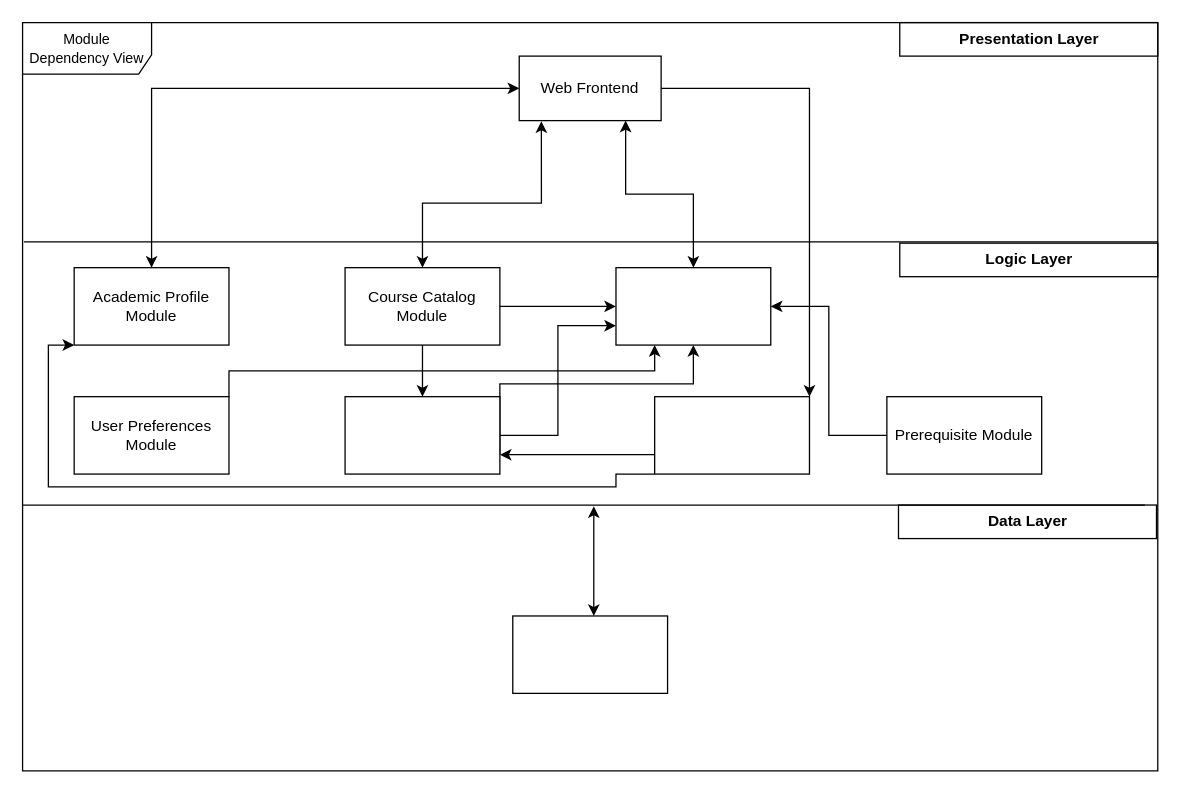
Image size: 1180x793. Some labels were removed from this diagram. The shapes that lost their labels are listed below. From the top down, each one's box as (x1, y1, x2, y2) in pixels, then its label:
(615, 266, 771, 345): Course Recommendation Module
(344, 395, 500, 474): Course Rating Module
(653, 395, 809, 474): User Management Module
(511, 615, 668, 693): Database
